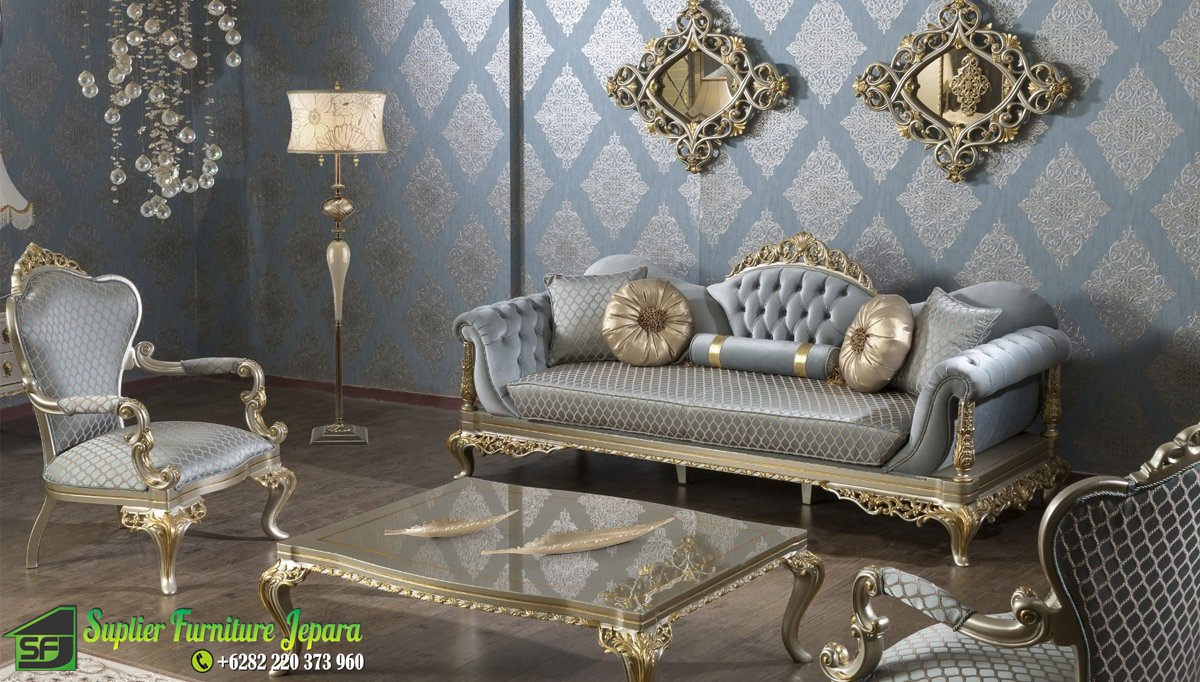Carving Chair: (454, 238, 1043, 541), (18, 257, 291, 565)
Carving Table: (265, 474, 816, 679)
